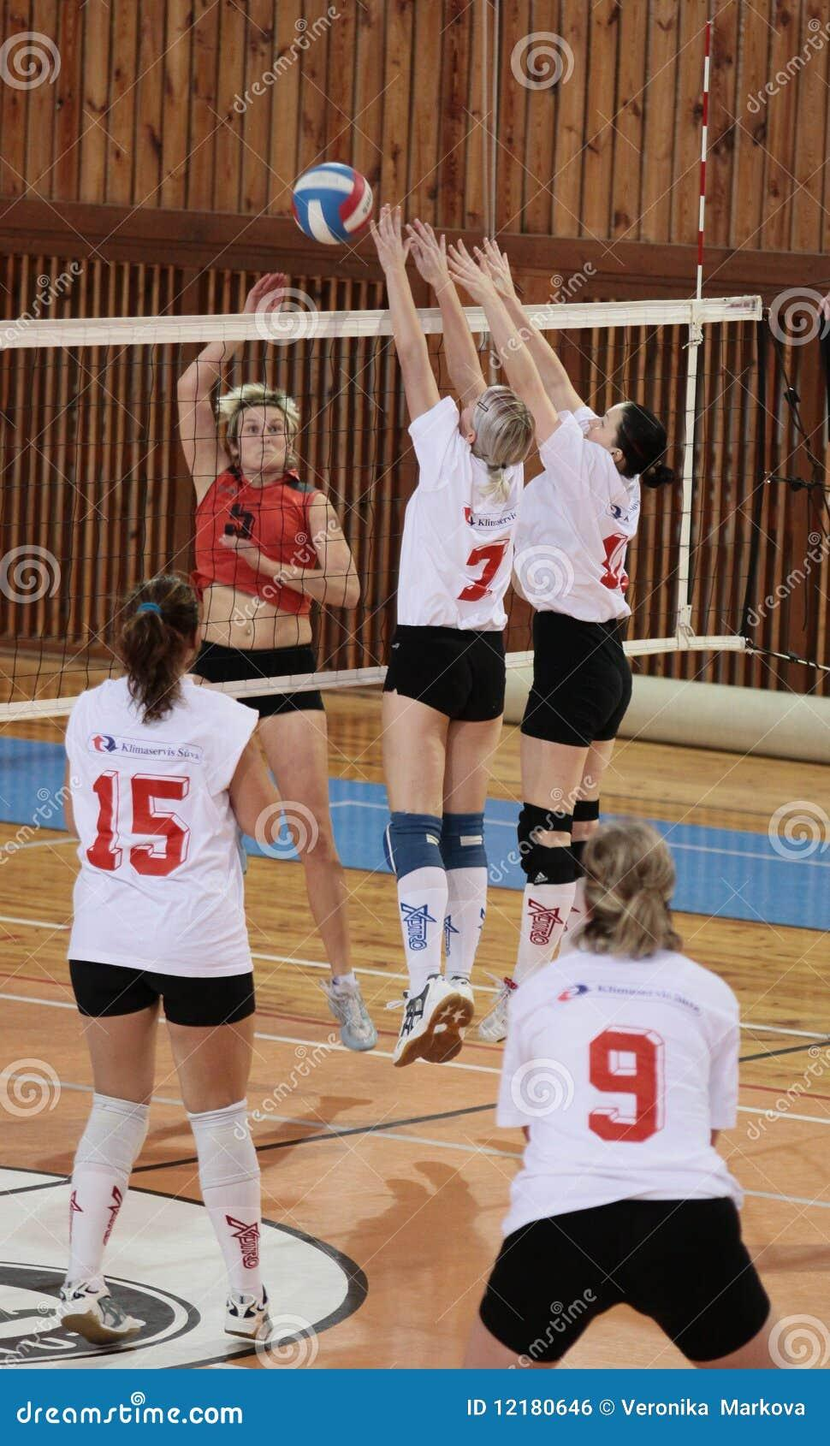ballon_volley: (289, 156, 376, 248)
